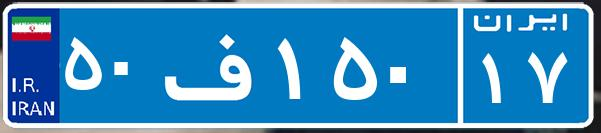0: (385, 28, 445, 110), (110, 28, 158, 105)
1: (273, 28, 330, 110), (475, 38, 525, 113)
5: (330, 28, 385, 110), (57, 26, 110, 107)
7: (525, 38, 570, 115)
ف: (158, 15, 273, 115)
